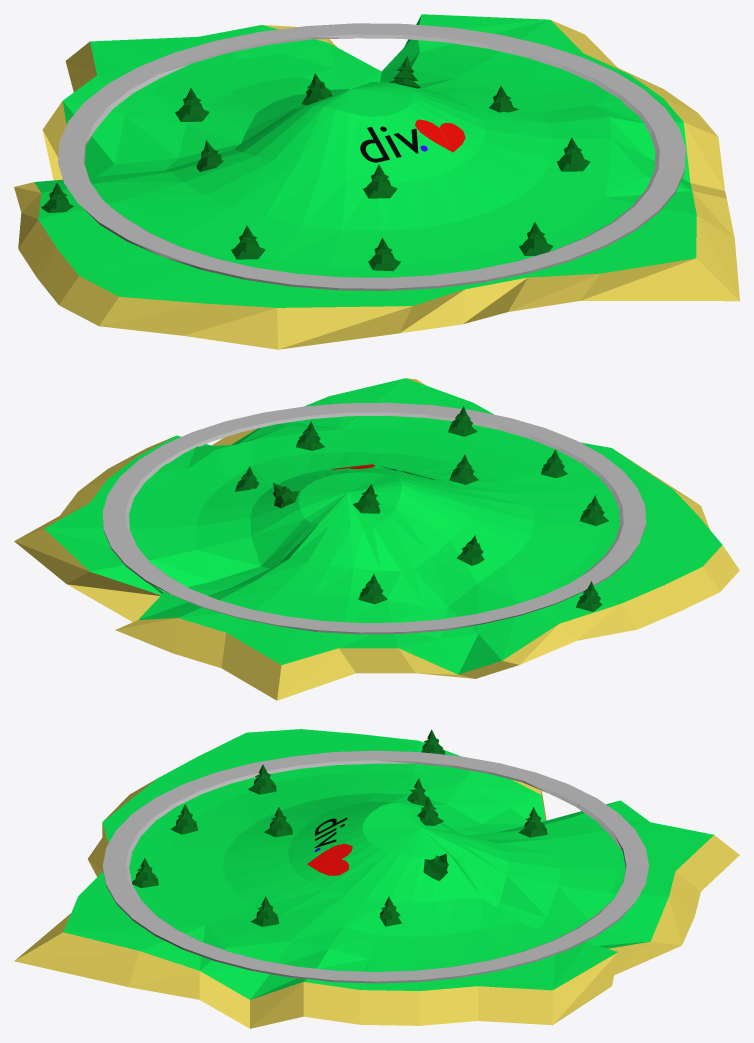
Rendered from portal-final.glb.
3 renders of one model, top to bottom at view 1: azimuth 30°, elevation 25°; view 2: azimuth 150°, elevation 25°; view 3: azimuth 270°, elevation 25°, orthographic. The views are drawn at different scales.
Parts seen in each view (by area): view 1: земля, песок, дорога, Объект, дерево.002, дерево.006, дерево.005, дерево.010, дерево.004, дерево.003; view 2: земля, песок, дорога; view 3: земля, песок, дорога, дерево.
Boxes of the visible parts, <box> form: земля: <box>34,14,696,307</box>; песок: <box>14,20,739,349</box>; дорога: <box>58,23,685,290</box>; Объект: <box>360,126,418,162</box>; дерево.002: <box>231,225,265,259</box>; дерево.006: <box>363,164,397,198</box>; дерево.005: <box>557,137,590,171</box>; дерево.010: <box>175,88,209,121</box>; дерево.004: <box>519,222,553,255</box>; дерево.003: <box>368,238,400,271</box>; земля: <box>44,378,722,674</box>; песок: <box>14,378,739,700</box>; дорога: <box>102,402,646,634</box>; земля: <box>63,729,713,999</box>; песок: <box>14,779,739,1028</box>; дорога: <box>102,750,648,983</box>; дерево: <box>423,853,448,881</box>.
Size of what is drawn, in the model's own units: 3.73 by 0.695 by 4.01.
